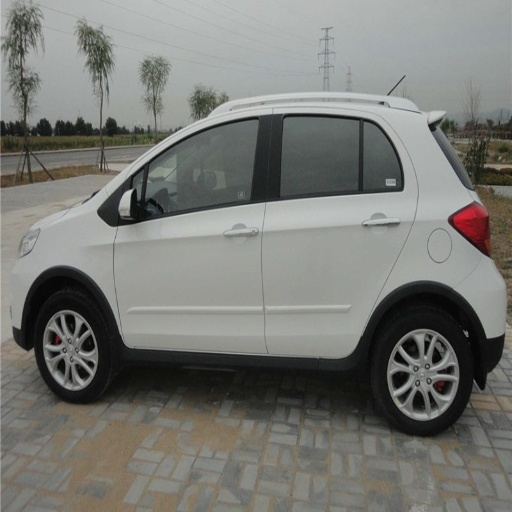back_left_door: (262, 109, 415, 356)
front_left_door: (114, 111, 272, 349)
